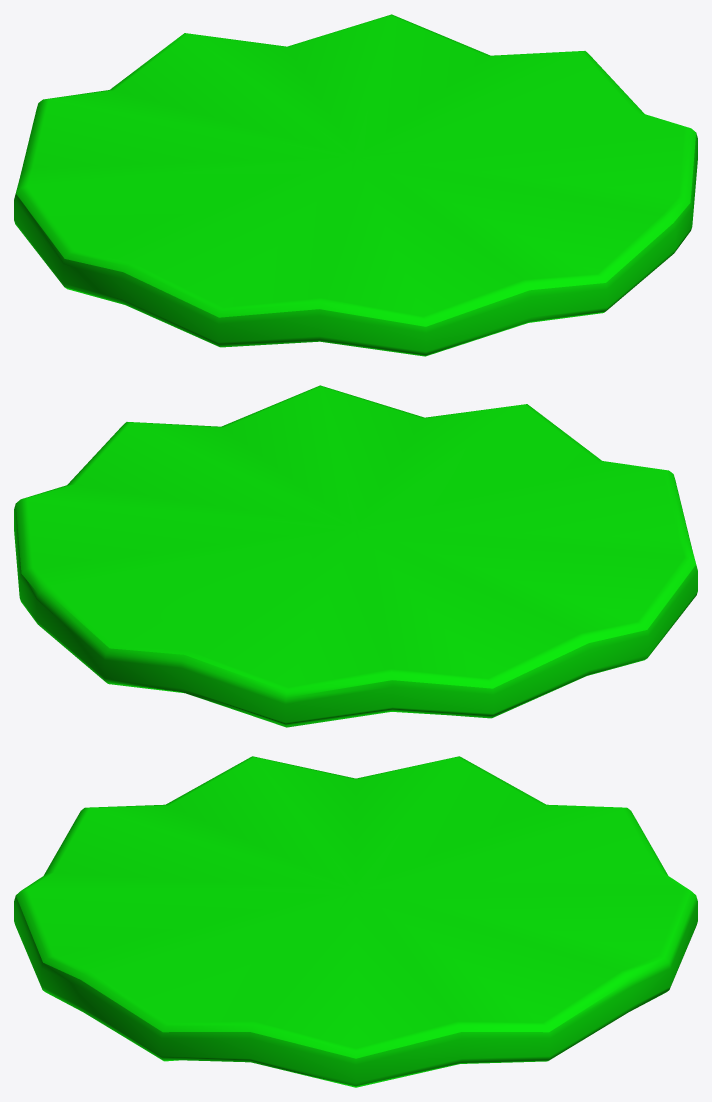
Rendered from lechuga.fbx.
3 renders of one model, top to bottom at view 1: azimuth 30°, elevation 25°; view 2: azimuth 150°, elevation 25°; view 3: azimuth 270°, elevation 25°, orthographic. The views are drawn at different scales.
Parts seen in each view (by area): view 1: pCylinder8; view 2: pCylinder8; view 3: pCylinder8.
Boxes of the visible parts, left/top/right/bottom form: pCylinder8: left=14, top=14, right=697, bottom=356; pCylinder8: left=14, top=385, right=697, bottom=727; pCylinder8: left=14, top=756, right=697, bottom=1087.
Bounding box in the file's own units: 0.7247 × 0.0745 × 0.7493.
